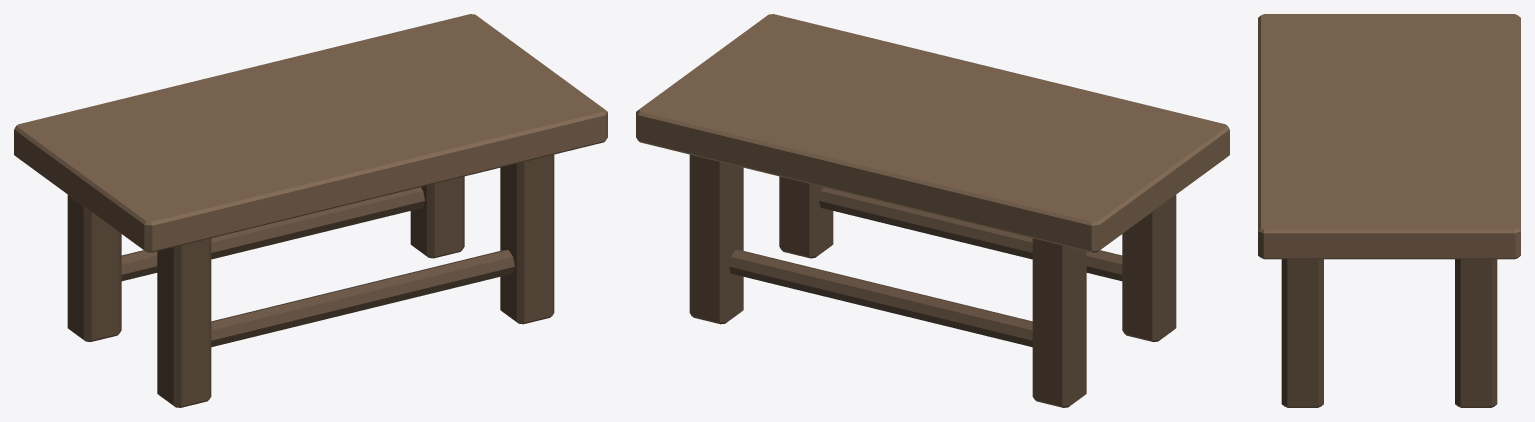
The model's file is casting-bench.glb.
3 renders of one model, left to right at view 1: azimuth 30°, elevation 25°; view 2: azimuth 150°, elevation 25°; view 3: azimuth 270°, elevation 25°, orthographic. The views are drawn at different scales.
Visible parts, largest first — view 1: casting-bench__body; view 2: casting-bench__body; view 3: casting-bench__body.
Part boxes in pixels (box(x1,y1,x2,y2)): casting-bench__body: box(14, 14, 607, 407); casting-bench__body: box(636, 14, 1229, 407); casting-bench__body: box(1258, 14, 1520, 407).
Bounding box in the file's own units: 1.1 × 0.465 × 0.56.
